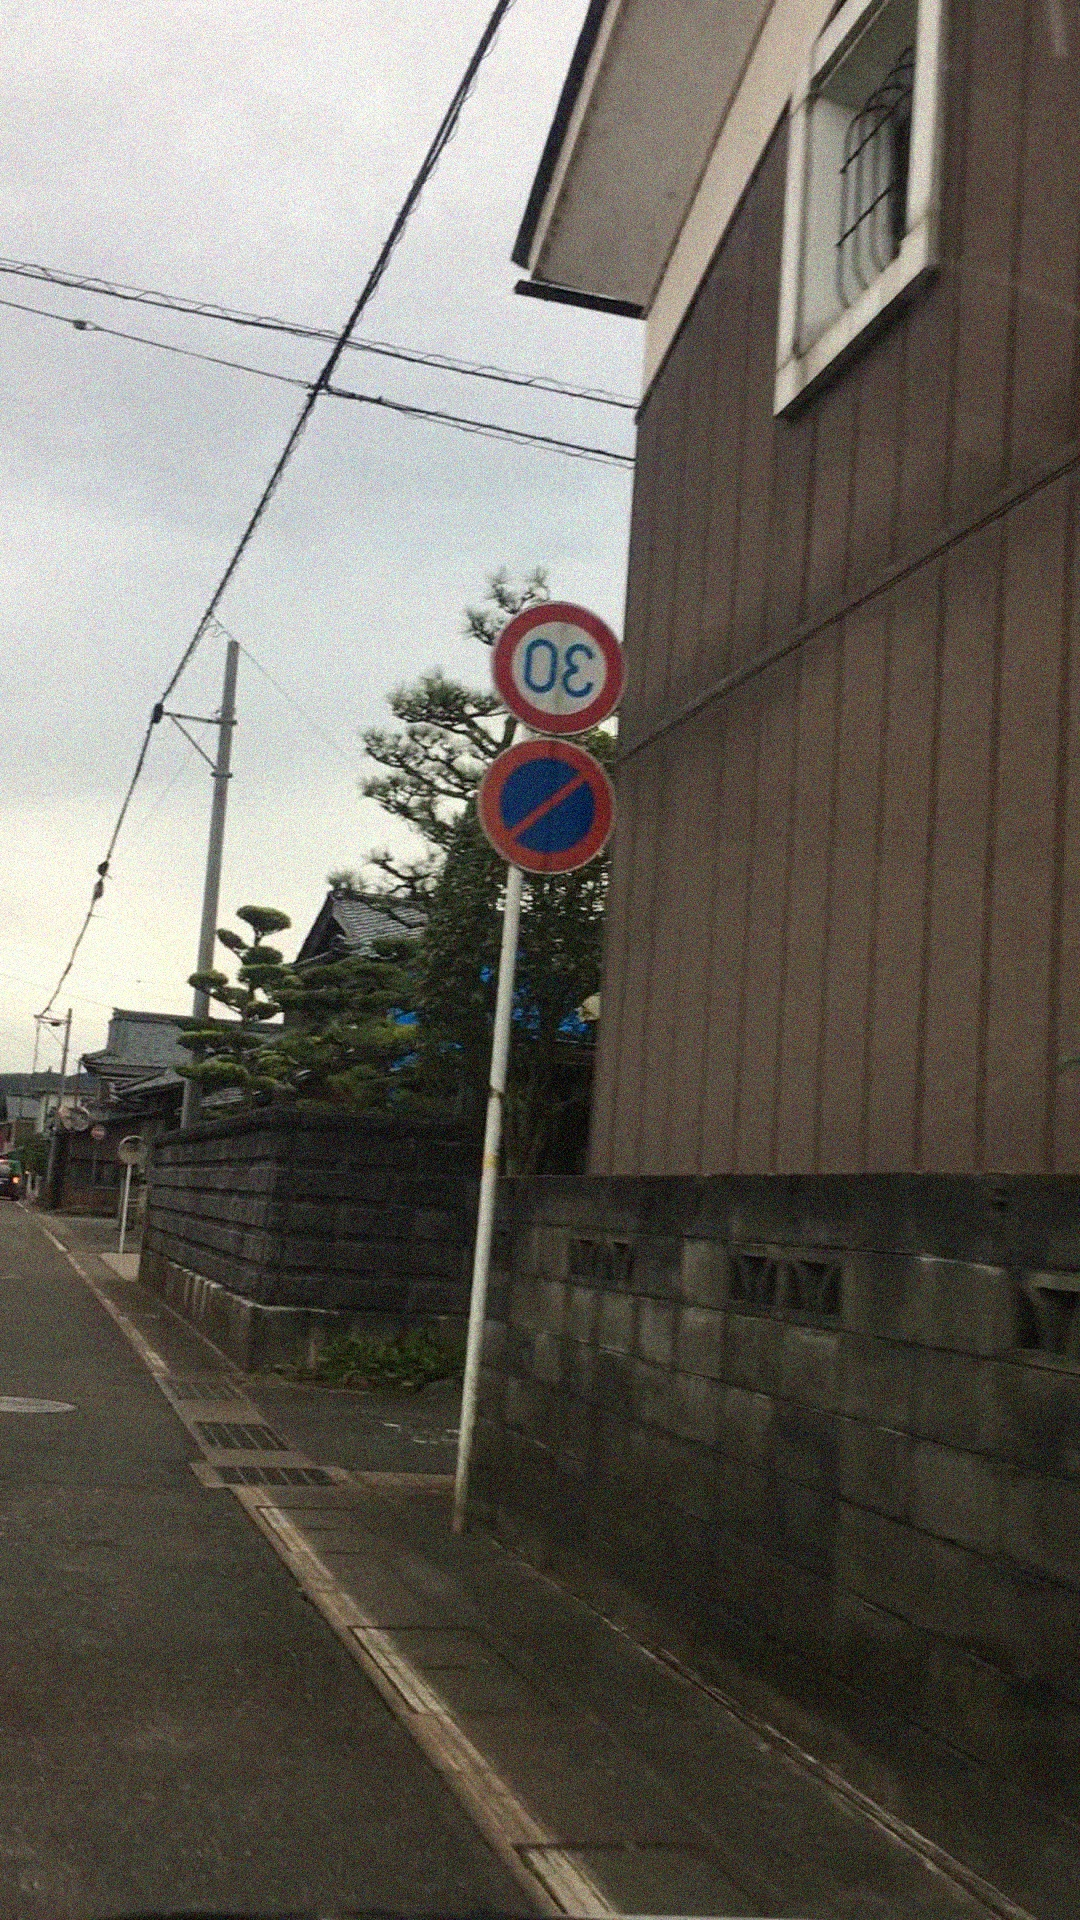Prohibition_sign: (465, 728, 626, 887)
Speed_sign: (487, 589, 626, 738)
